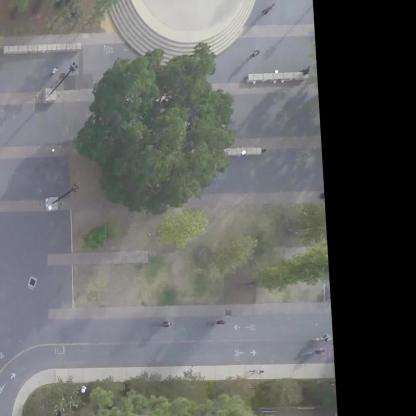Bicyclist: (199, 311, 234, 334), (310, 331, 338, 346), (306, 344, 329, 362)
Pedestrian: (259, 0, 285, 28), (47, 60, 75, 84), (296, 61, 314, 84), (245, 47, 268, 63), (155, 315, 172, 332)
